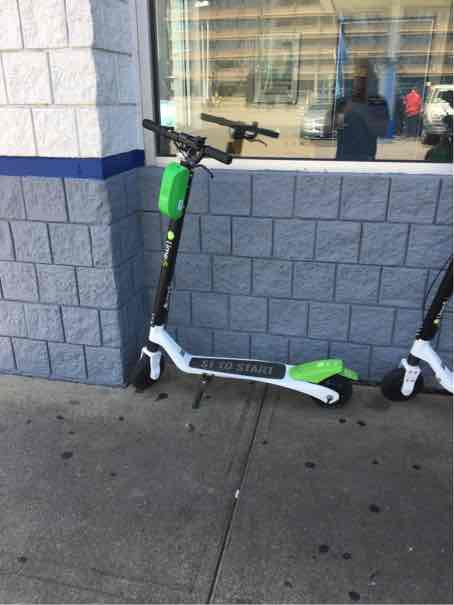scooter: (128, 117, 354, 420)
